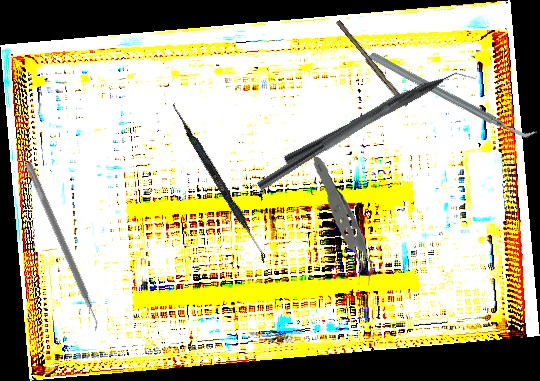Chopper: (368, 4, 538, 186), (256, 67, 447, 203), (281, 57, 480, 179)
Scalpel Handle: (333, 19, 410, 109)
Spatula Surgical: (166, 102, 273, 264), (17, 161, 106, 334)
Tissue Forceps: (297, 156, 386, 288)
